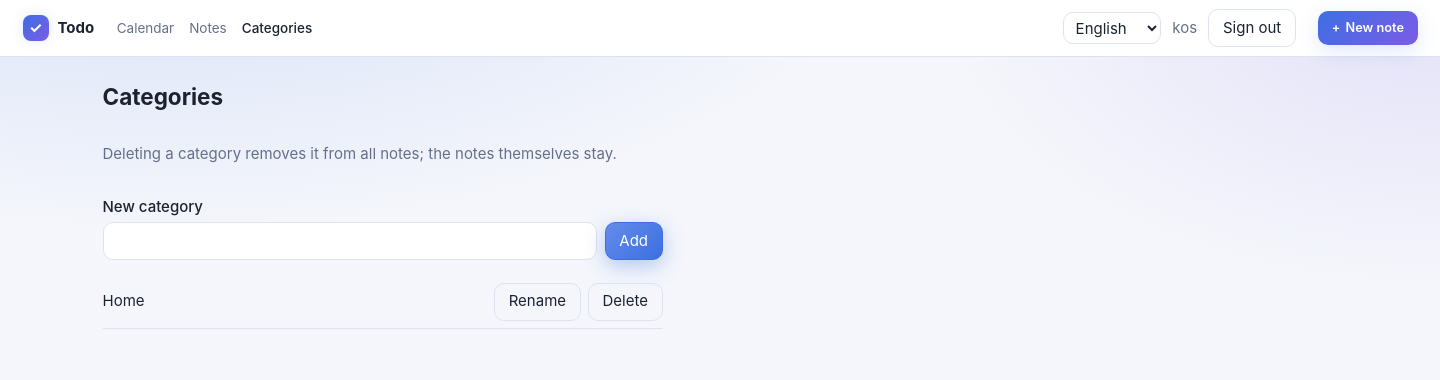
categories › renames a category in place
Step 1. Click the button "Rename" → click(537, 302), box [494, 282, 581, 320]
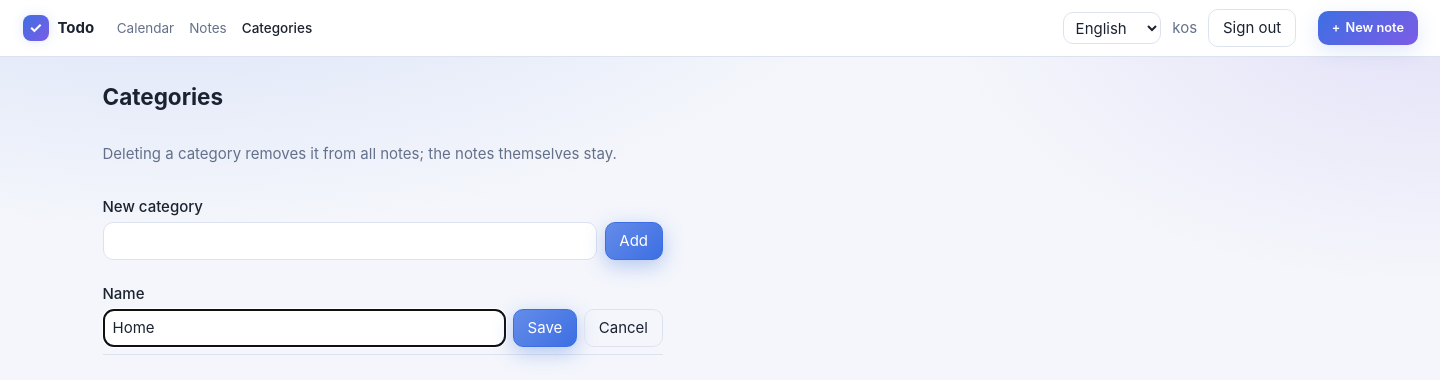
Step 2. Replace the text in the field labelled "Name" with "Flat" → (304, 328), box [102, 309, 506, 347]
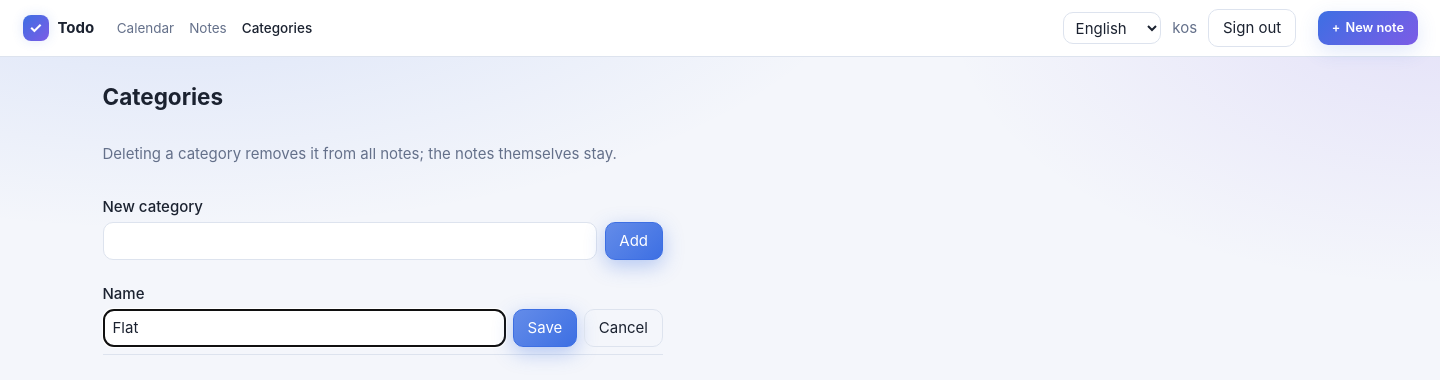
Step 3. Click the button "Save" → click(545, 328), box [513, 309, 577, 347]
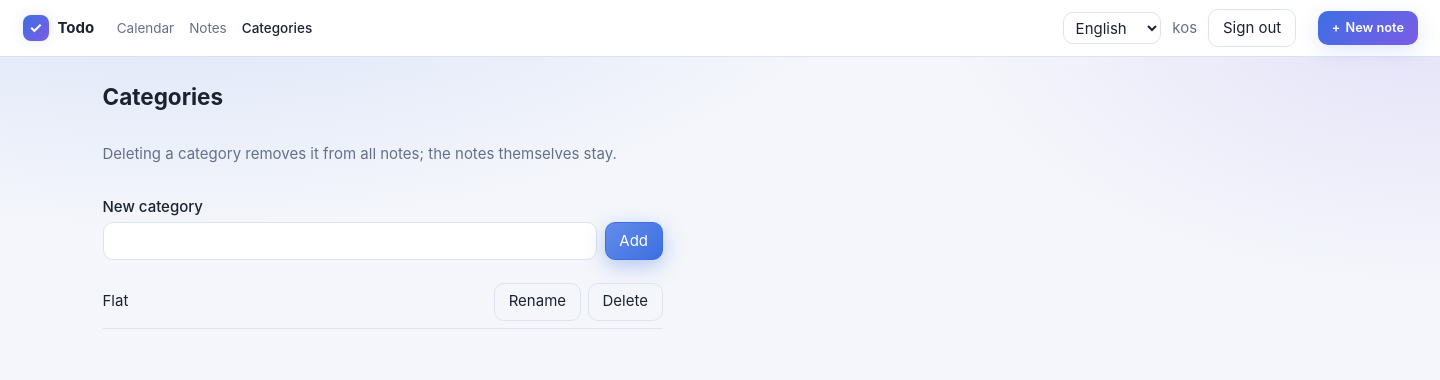
Result: the text "Flat" is shown at [102, 291, 128, 310]
